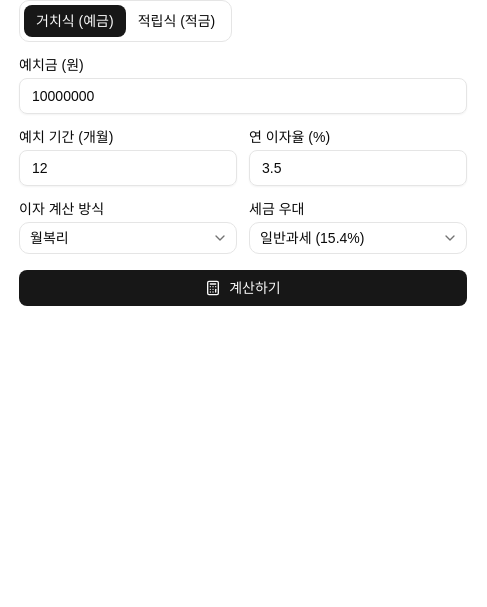
SavingsCalculator › computes and displays the result for the default (거치식/월복리) inputs
Click the button "계산하기" at [243, 288], box [19, 270, 467, 306]
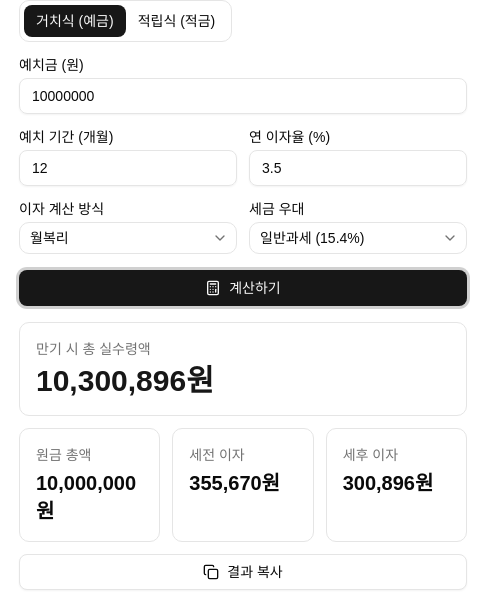
Now the text "만기 시 총 실수령액" is shown, box [36, 341, 151, 357]
Now the text "10,300,896원" is shown, box [36, 364, 214, 397]
Now the text "10,000,000원" is shown, box [36, 469, 143, 525]
